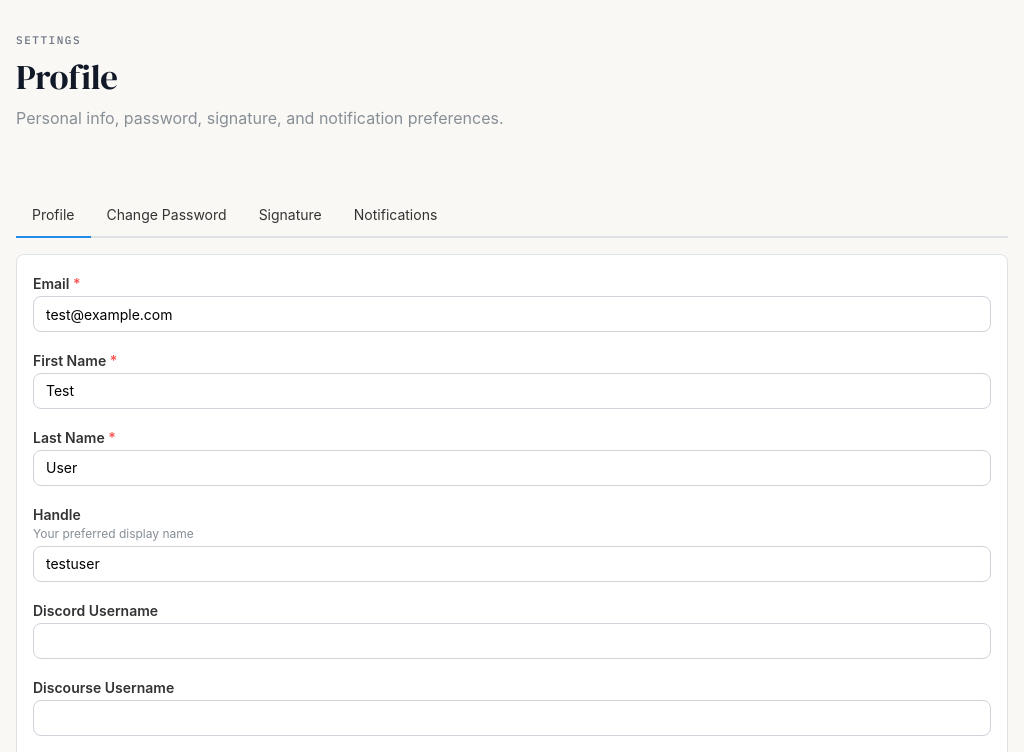
Test case: UserProfilePage › loads and displays notification preferences successfully
Expected: the heading "Profile" is shown, [16,53,118,101]
// Click on notifications tab
Click the tab "Notifications".
click(396, 216)  # box [338,194,453,238]
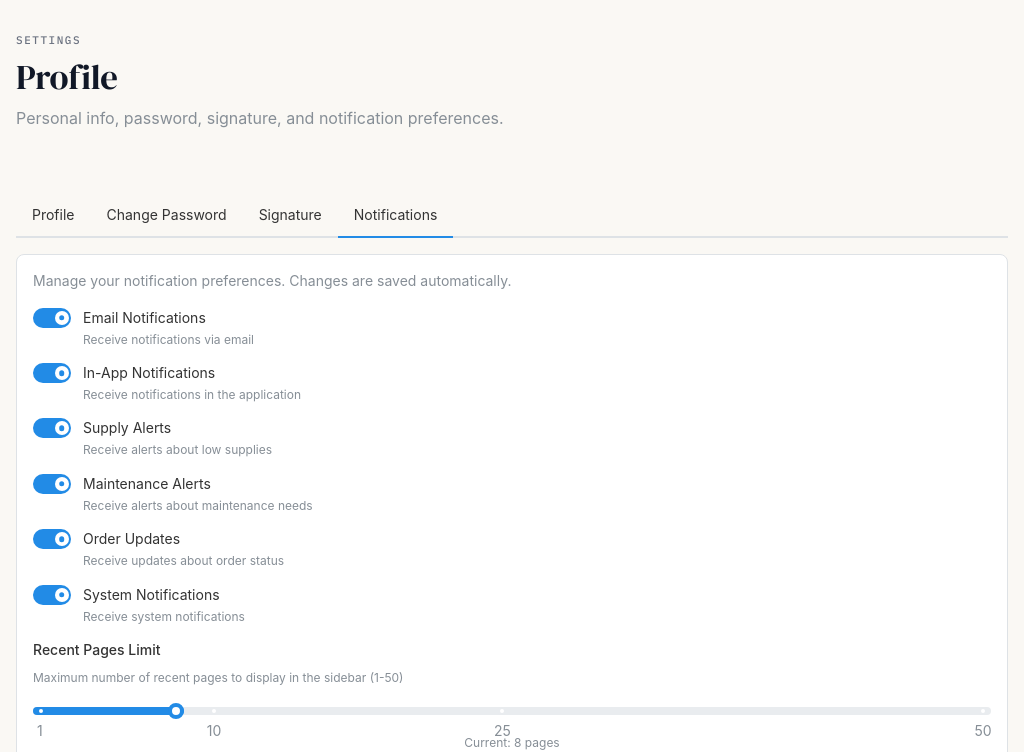
Now the text "Manage your notification preferences. Changes are saved automatically." is shown, box [33,272,512,289]
Now the text "Email Notifications" is shown, box [83,309,206,326]
Now the text "In-App Notifications" is shown, box [83,364,215,381]
